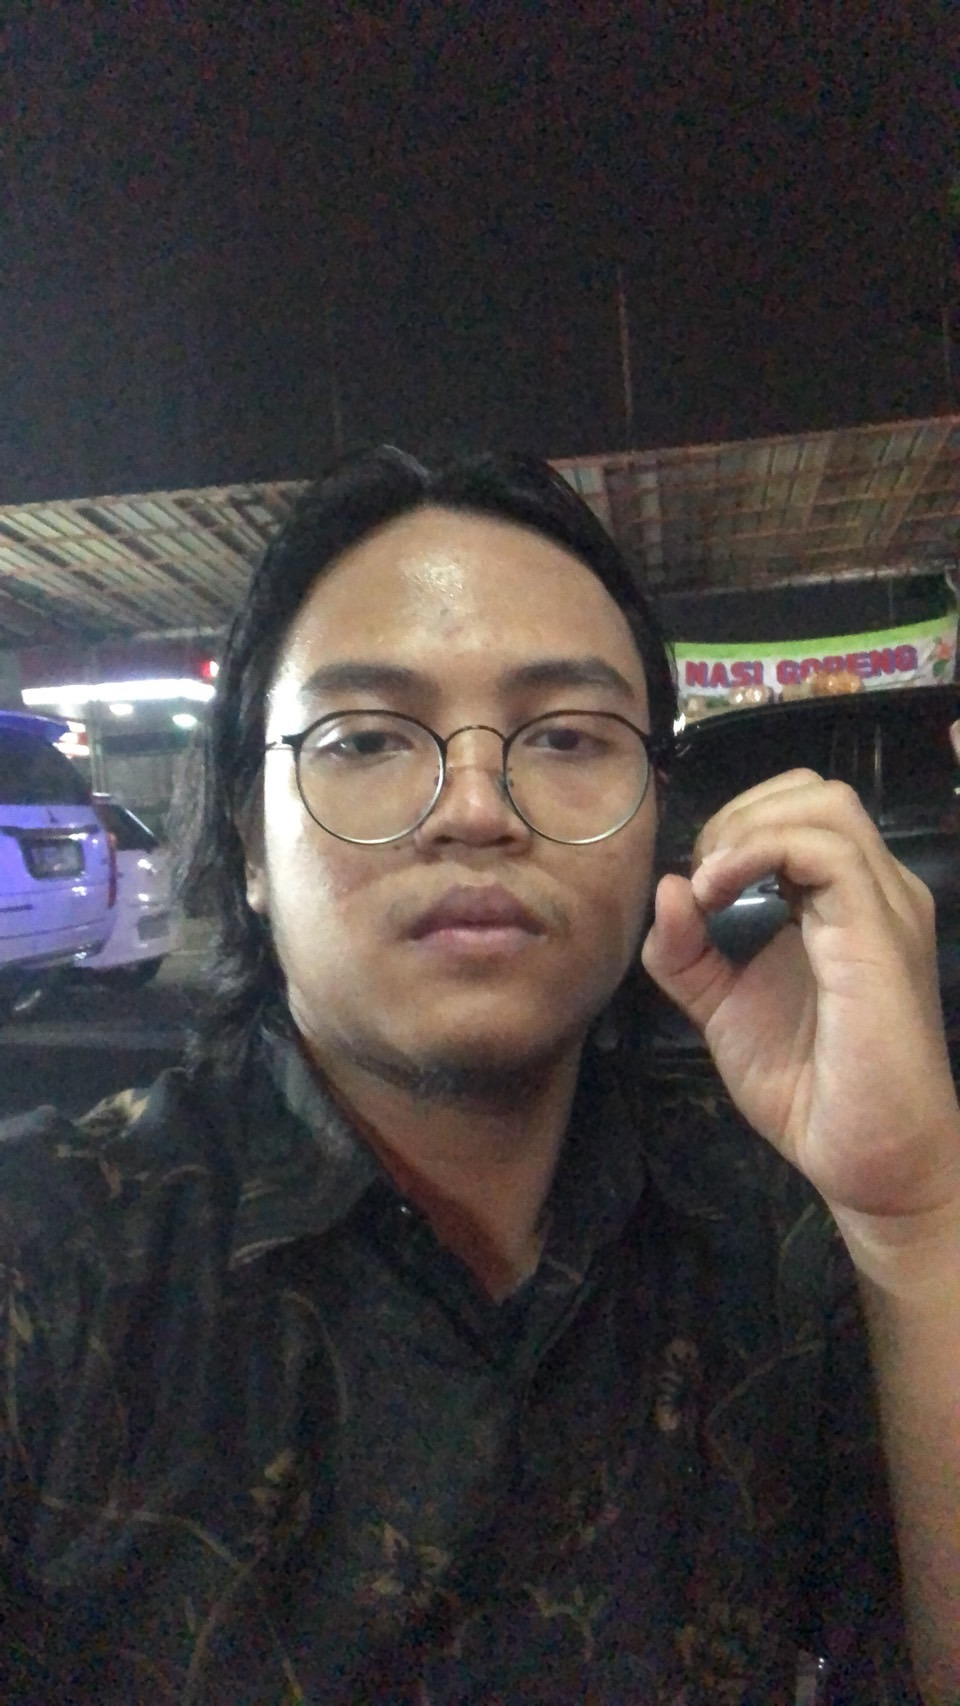O: (629, 758, 960, 1240)
